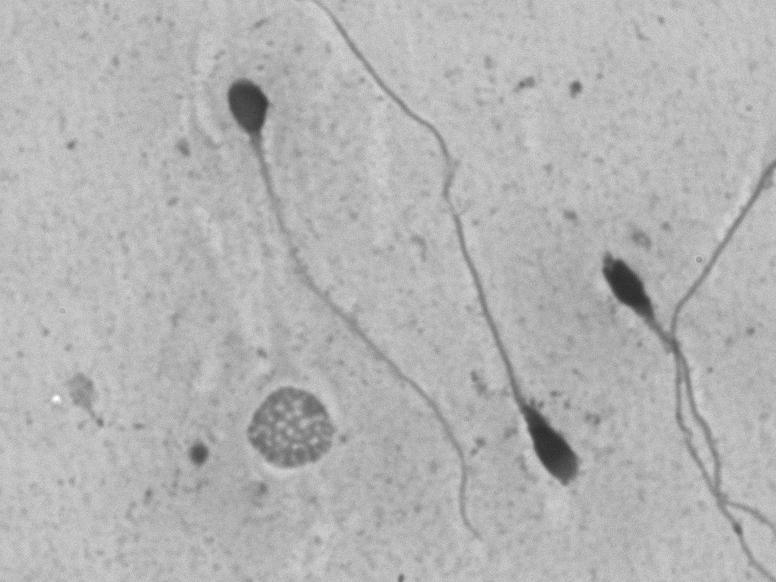Abnormal: (337, 8, 612, 511), (589, 213, 718, 496)
Normal: (200, 37, 517, 560)
